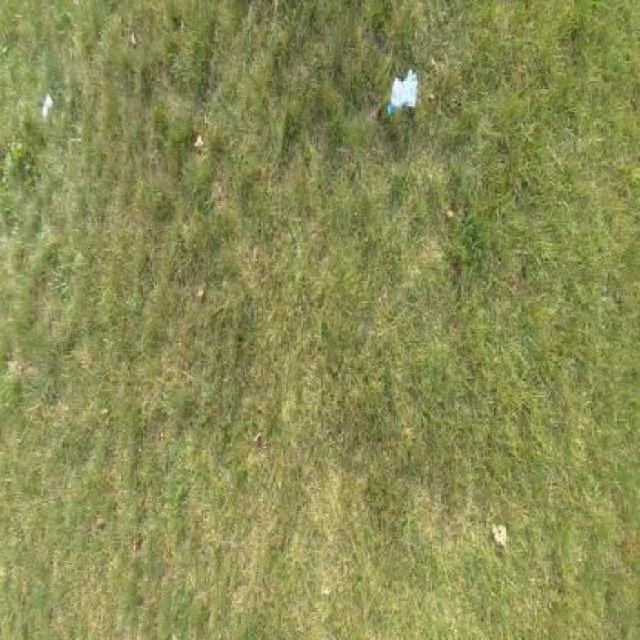Garbage: (387, 68, 418, 114), (42, 92, 53, 119)
